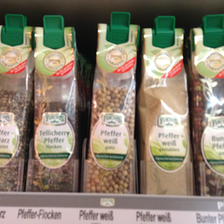spices: (86, 22, 139, 192), (141, 28, 193, 194), (32, 26, 76, 193), (189, 28, 224, 197), (1, 26, 30, 191)
